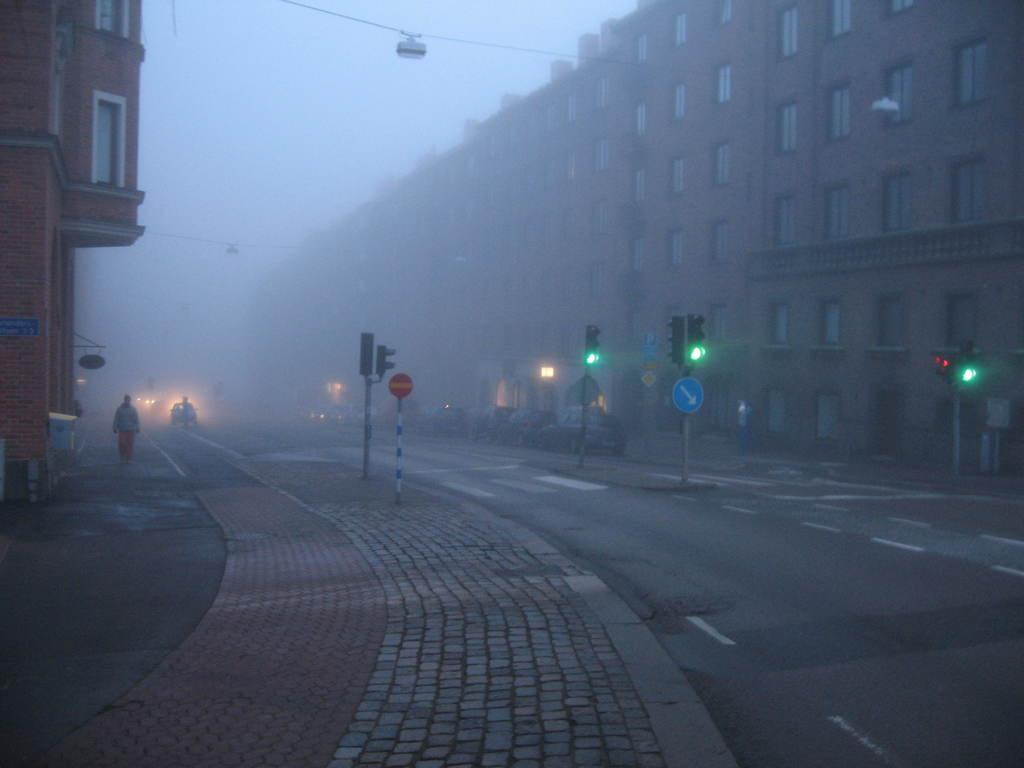green_light: (686, 312, 709, 366), (959, 340, 978, 386), (583, 324, 602, 368)
